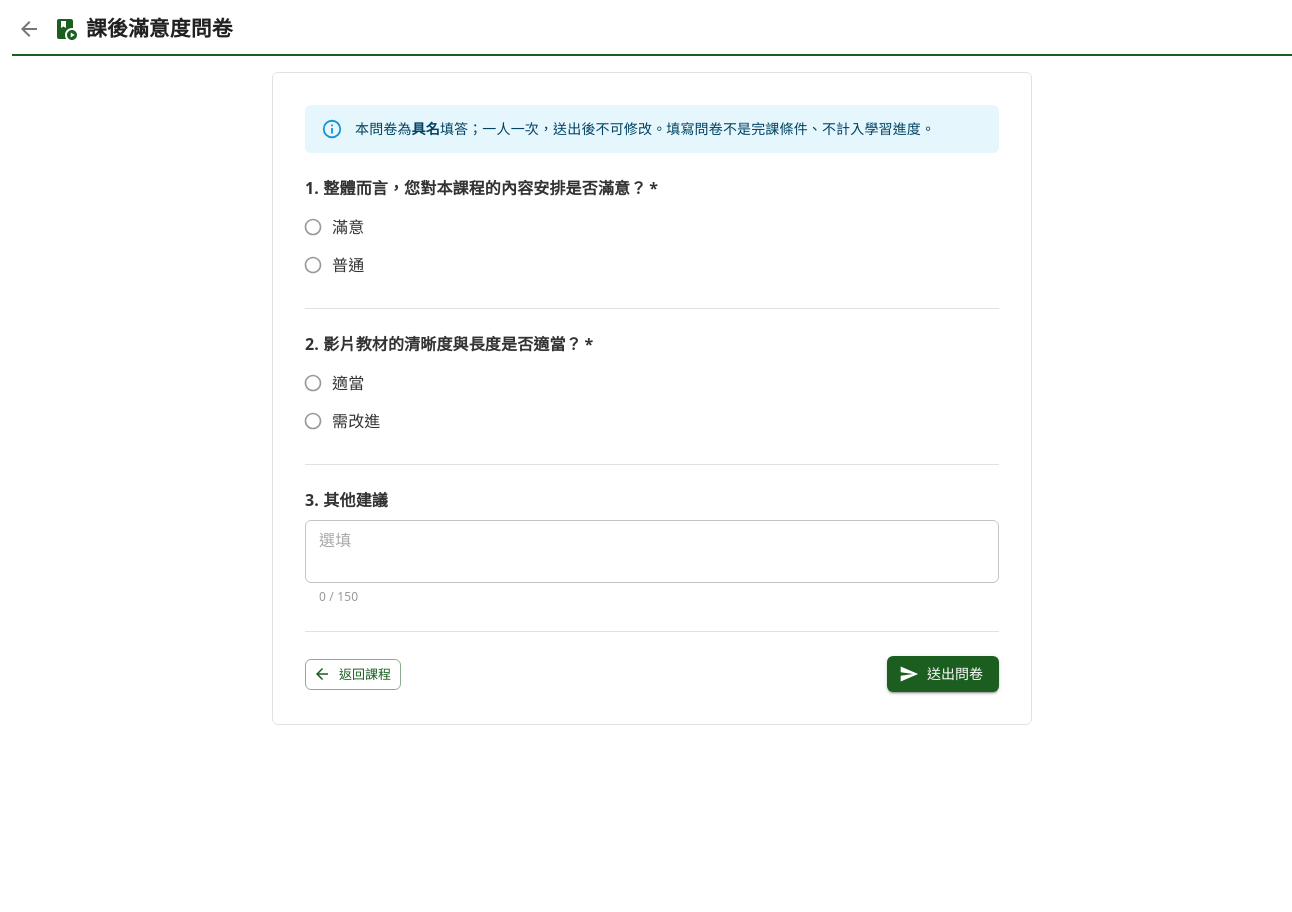
it: EtSurveyFillPage › 未答單選題就送出時擋下並逐題標示
Click the button "送出問卷" at (943, 674), box [887,656,999,692]
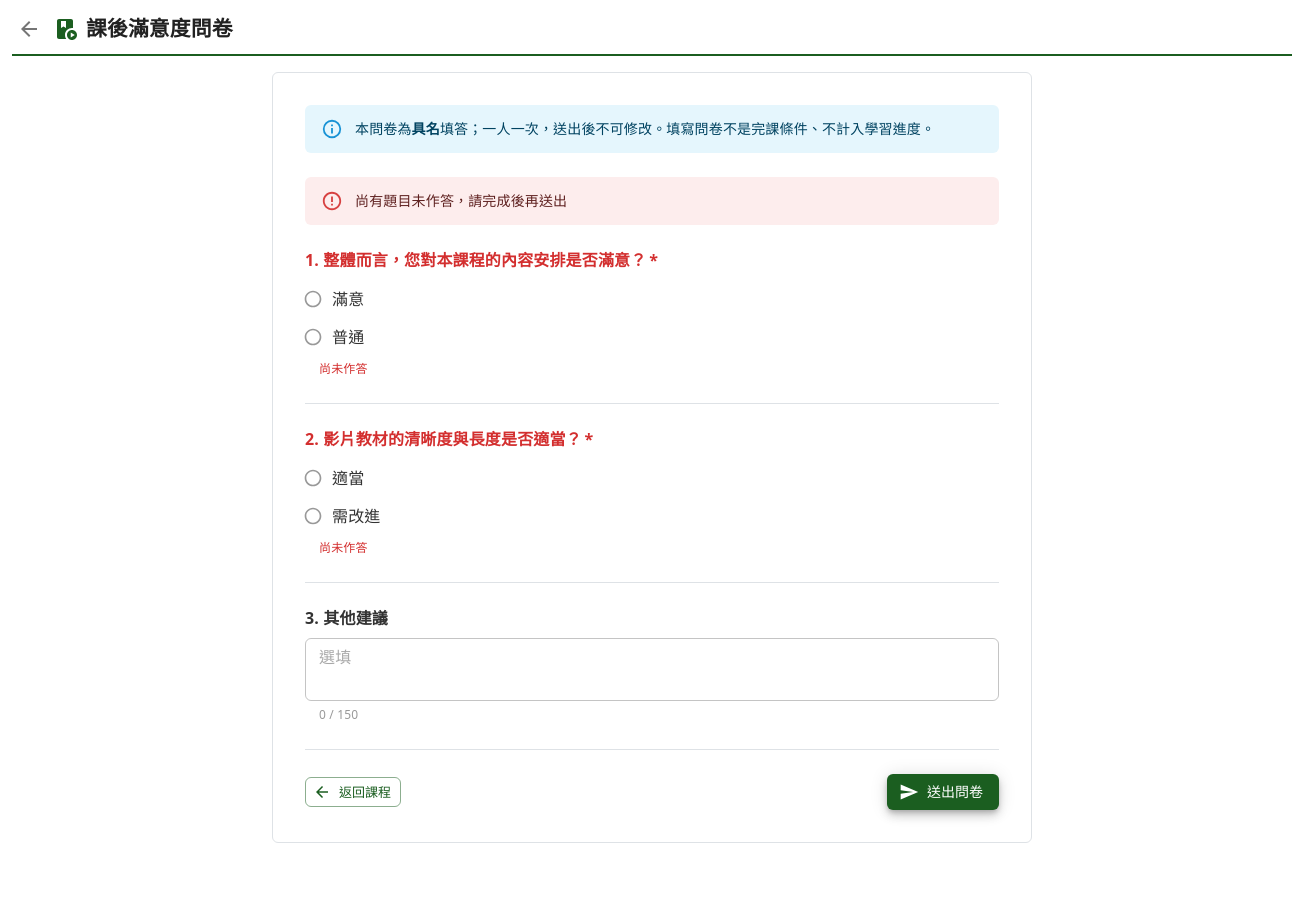
Expected: the text "尚有題目未作答，請完成後再送出" is shown, [355,191,567,210]
Expected: the text "尚未作答" is shown 2 times, [319,360,368,377]; [319,539,368,556]
